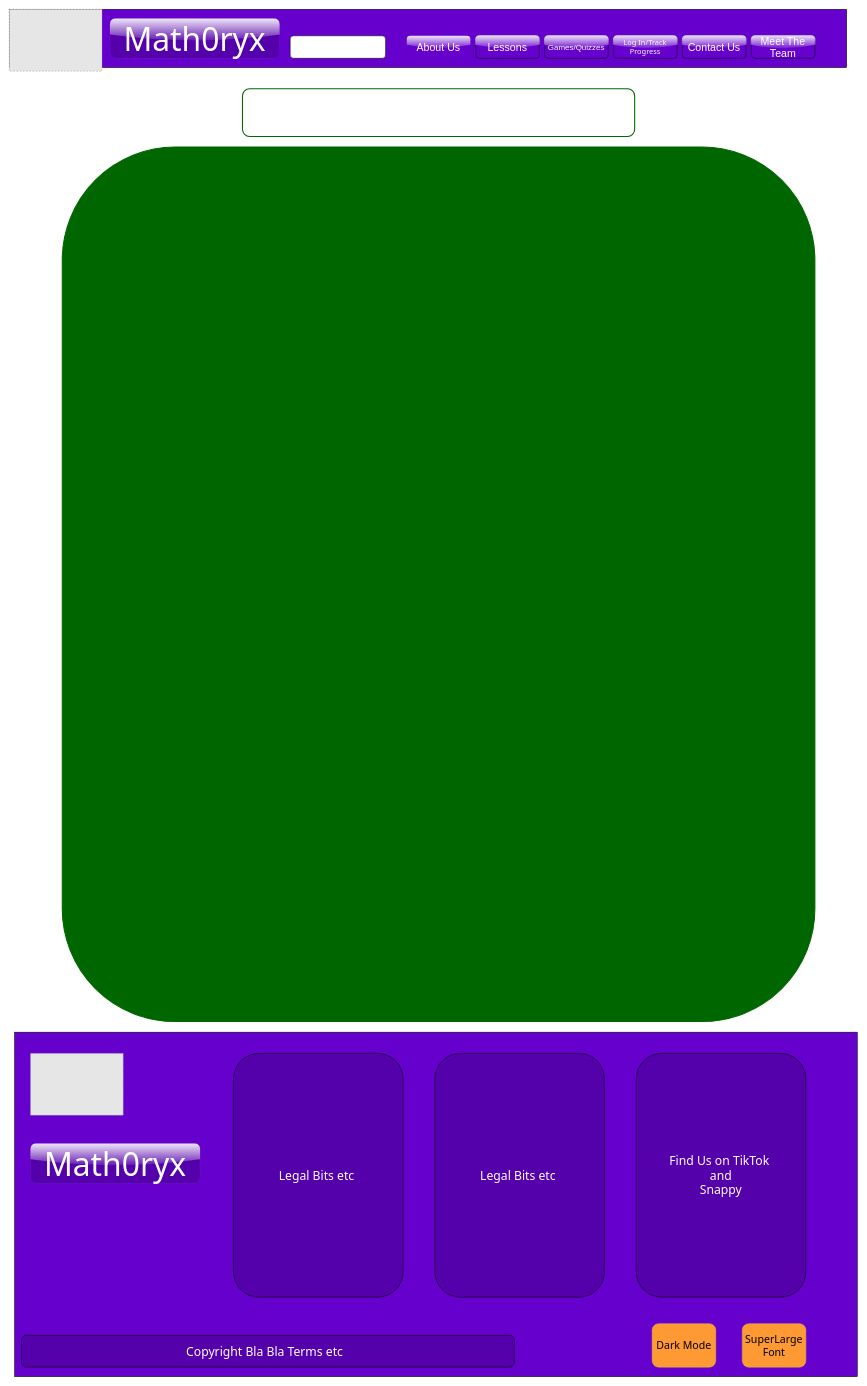
Image size: 867x1386. Some labels were removed from this diagram. Grey dashed boxes stand in for pictures. Each missing label, with the centre of its shape:
game-quiz: point 438,584
Here Comes the Quizzzzzz: point 438,112
Search Bar: point 338,46
